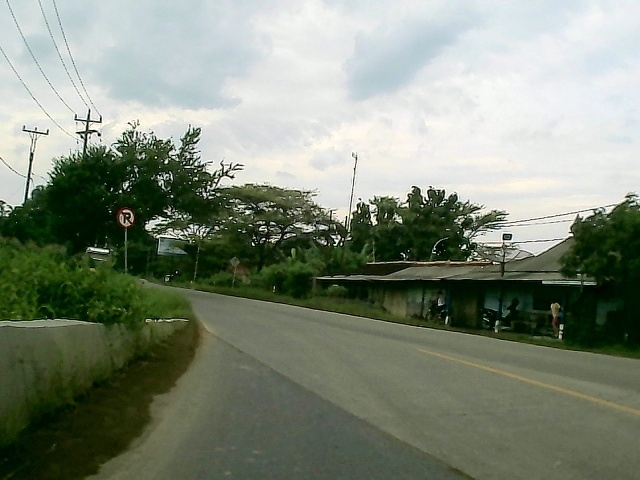Dilarang parkir: (115, 206, 137, 228)
